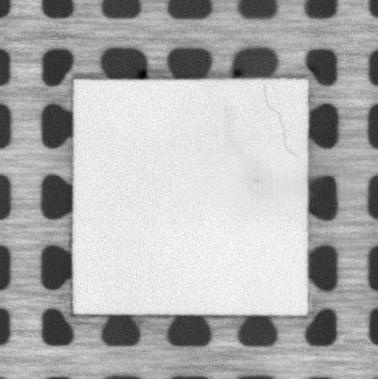DIE_CRACK: (263, 83, 298, 161)
